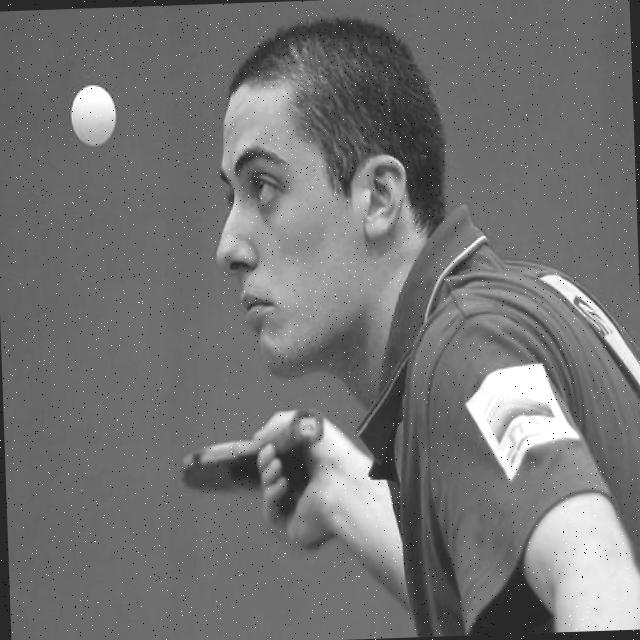ping-pong-ball: (68, 84, 120, 148)
